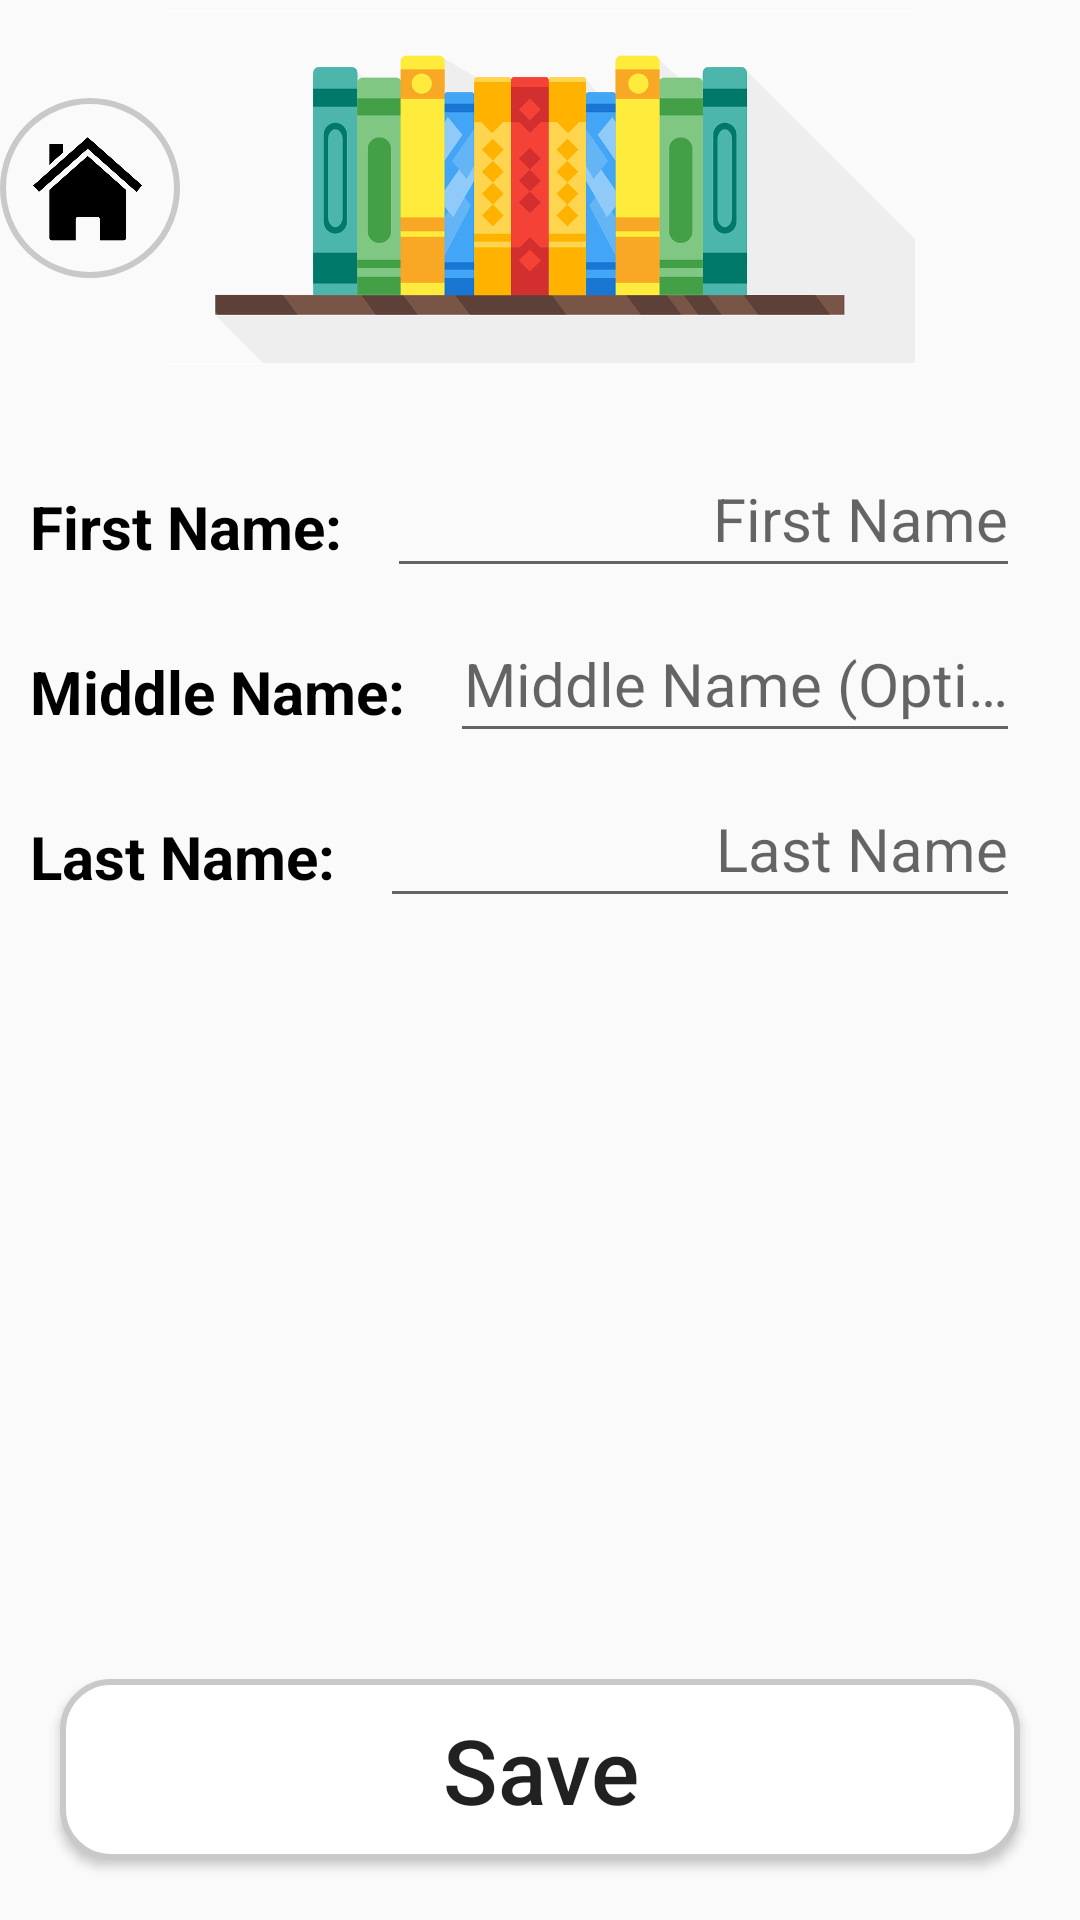

Where icons sit on this 1080px x 1920px app screen, as (x1, y1, x2, y2):
home: (0, 98, 180, 278)
